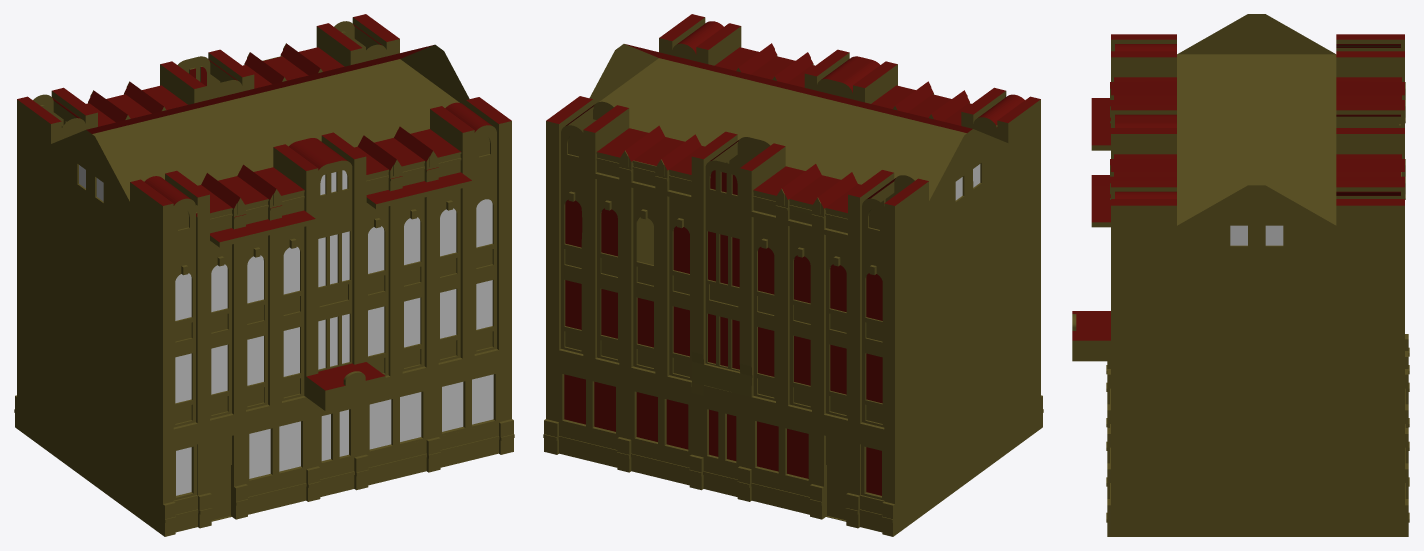
Rendered from АрматурныйЗавод.obj.
The picture shows the model from 3 angles, left to right: view 1: azimuth 30°, elevation 25°; view 2: azimuth 150°, elevation 25°; view 3: azimuth 270°, elevation 25°; orthographic projection.
Parts seen in each view (by area): view 1: Куб.001; view 2: Куб.001; view 3: Куб.001.
Part boxes in pixels (box(x1,y1,x2,y2)): Куб.001: box(14, 14, 514, 536); Куб.001: box(543, 14, 1043, 536); Куб.001: box(1072, 14, 1409, 536).
Size of what is drawn, in the model's own units: 17.23 by 16.48 by 14.33.
